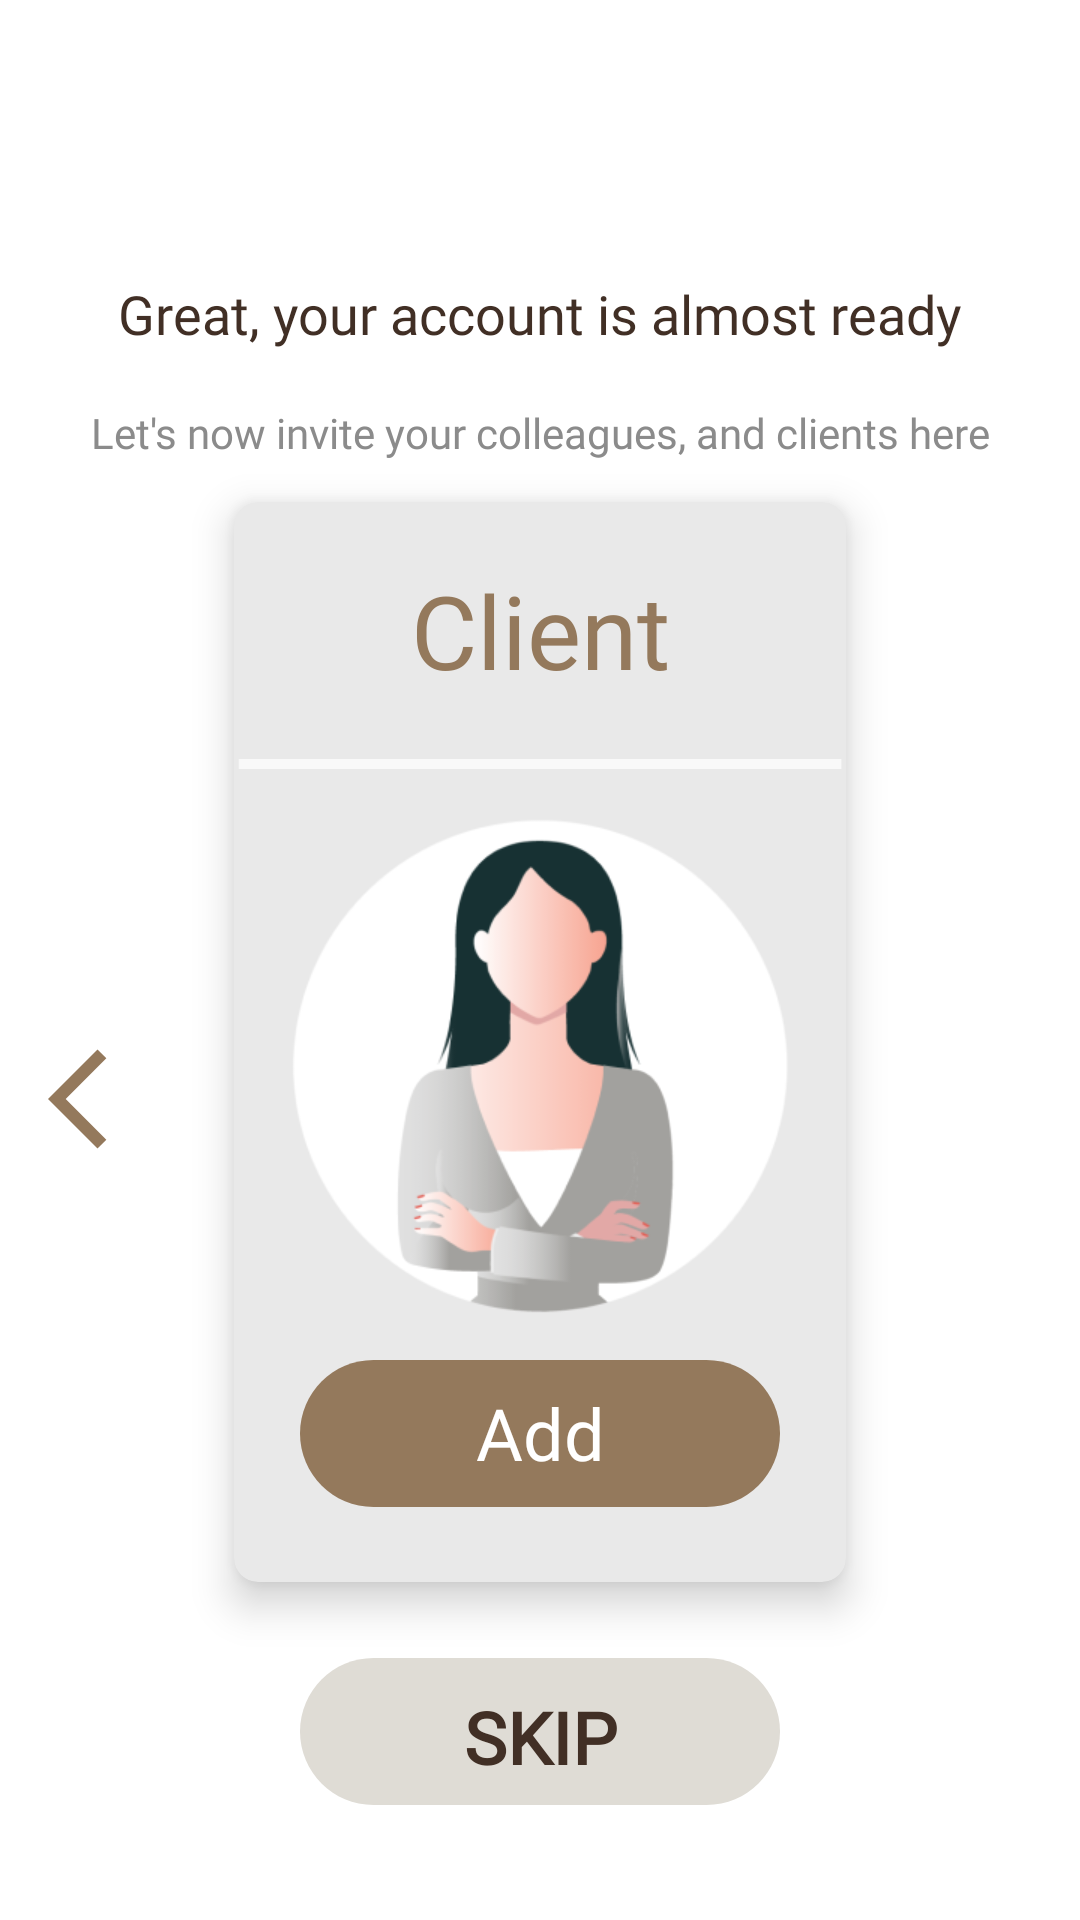

Icons on this 1080px×1920px Android screen, each with the point to tap as (x,y):
arrow back: (77,1099)
